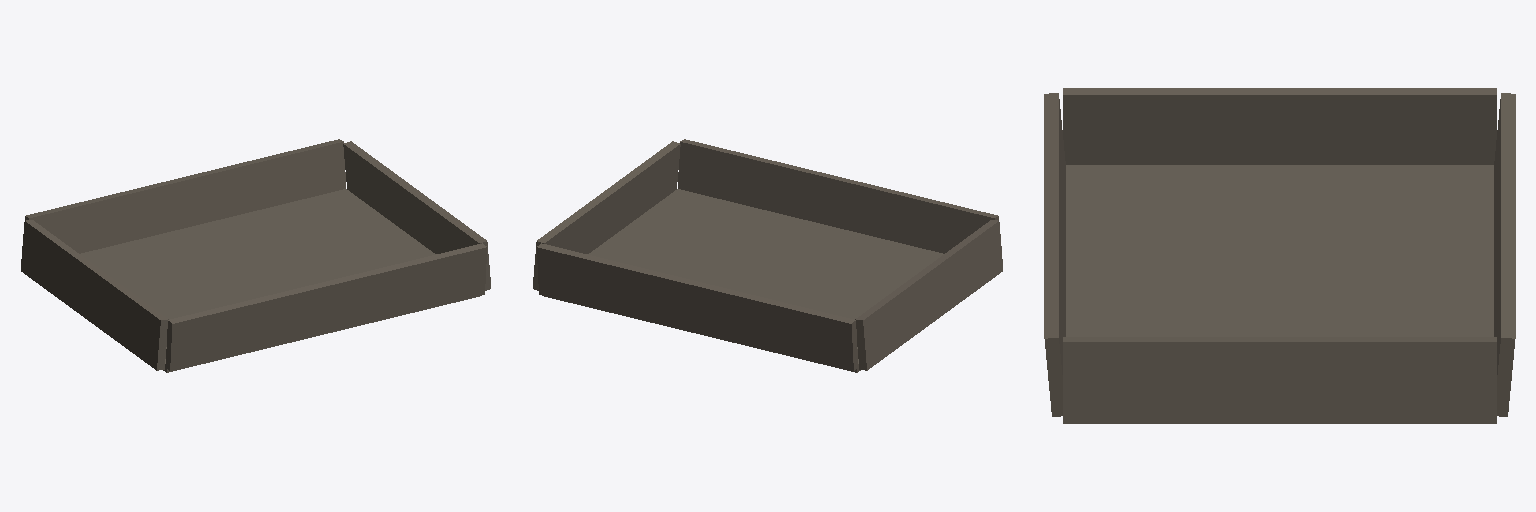
robot.urdf — spawn_basket:
<?xml version="1.0" ?>
<!--
  spawn_basket.urdf — Shallow open-top basket for containing spawned objects.

  Dimensions are parameterised via globalScaling at load time.
  At scale=1.0, the interior is roughly 0.40m x 0.30m with 0.06m-high walls.
  The basket sits flat on whatever surface it's placed on.

  Walls are angled slightly outward (~5°) so objects near the edges are still
  reachable by the gripper and visible to the top-down camera.
-->
<robot name="spawn_basket">
  <link name="base_link">
    <inertial>
      <origin rpy="0 0 0" xyz="0 0 0"/>
      <mass value="0"/>
      <inertia ixx="0" ixy="0" ixz="0" iyy="0" iyz="0" izz="0"/>
    </inertial>

    <!-- ==================== VISUAL ==================== -->

    <!-- Bottom plate -->
    <visual>
      <origin rpy="0 0 0" xyz="0 0 0.005"/>
      <geometry>
        <box size="0.40 0.30 0.01"/>
      </geometry>
      <material name="basket_mat">
        <color rgba="0.45 0.42 0.38 1.0"/>
      </material>
    </visual>

    <!-- Wall: +X (right) -->
    <visual>
      <origin rpy="0 -0.087 0" xyz="0.205 0 0.035"/>
      <geometry>
        <box size="0.01 0.30 0.06"/>
      </geometry>
      <material name="basket_mat"/>
    </visual>

    <!-- Wall: -X (left) -->
    <visual>
      <origin rpy="0 0.087 0" xyz="-0.205 0 0.035"/>
      <geometry>
        <box size="0.01 0.30 0.06"/>
      </geometry>
      <material name="basket_mat"/>
    </visual>

    <!-- Wall: +Y (back) -->
    <visual>
      <origin rpy="-0.087 0 0" xyz="0 0.155 0.035"/>
      <geometry>
        <box size="0.40 0.01 0.06"/>
      </geometry>
      <material name="basket_mat"/>
    </visual>

    <!-- Wall: -Y (front) -->
    <visual>
      <origin rpy="0.087 0 0" xyz="0 -0.155 0.035"/>
      <geometry>
        <box size="0.40 0.01 0.06"/>
      </geometry>
      <material name="basket_mat"/>
    </visual>

    <!-- ==================== COLLISION ==================== -->

    <!-- Bottom plate -->
    <collision>
      <origin rpy="0 0 0" xyz="0 0 0.005"/>
      <geometry>
        <box size="0.40 0.30 0.01"/>
      </geometry>
    </collision>

    <!-- Wall: +X -->
    <collision>
      <origin rpy="0 -0.087 0" xyz="0.205 0 0.035"/>
      <geometry>
        <box size="0.01 0.30 0.06"/>
      </geometry>
    </collision>

    <!-- Wall: -X -->
    <collision>
      <origin rpy="0 0.087 0" xyz="-0.205 0 0.035"/>
      <geometry>
        <box size="0.01 0.30 0.06"/>
      </geometry>
    </collision>

    <!-- Wall: +Y -->
    <collision>
      <origin rpy="-0.087 0 0" xyz="0 0.155 0.035"/>
      <geometry>
        <box size="0.40 0.01 0.06"/>
      </geometry>
    </collision>

    <!-- Wall: -Y -->
    <collision>
      <origin rpy="0.087 0 0" xyz="0 -0.155 0.035"/>
      <geometry>
        <box size="0.40 0.01 0.06"/>
      </geometry>
    </collision>

  </link>
</robot>

--- Render facts (derived) ---
The picture shows the robot from 3 angles, left to right: view 1: azimuth 30°, elevation 25°; view 2: azimuth 150°, elevation 25°; view 3: azimuth 270°, elevation 25°; orthographic projection.
Model spawn_basket with 1 links and 0 joints (none), rooted at base_link, posed every joint at zero.
Visible links, largest first — view 1: base_link; view 2: base_link; view 3: base_link.
Link boxes in pixels (x1,y1,x2,y2): base_link: (21, 139, 490, 372); base_link: (533, 139, 1002, 372); base_link: (1044, 88, 1515, 423).
Size in the robot's own frame: 0.4252 by 0.3252 by 0.0653 metres.
Geometry: primitives only (box / cylinder / sphere), no mesh files.
